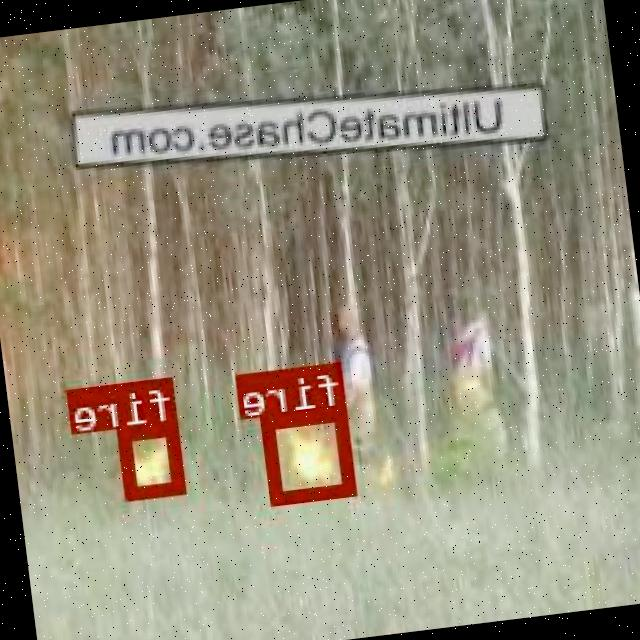fire: (262, 404, 358, 501), (118, 421, 188, 498)
